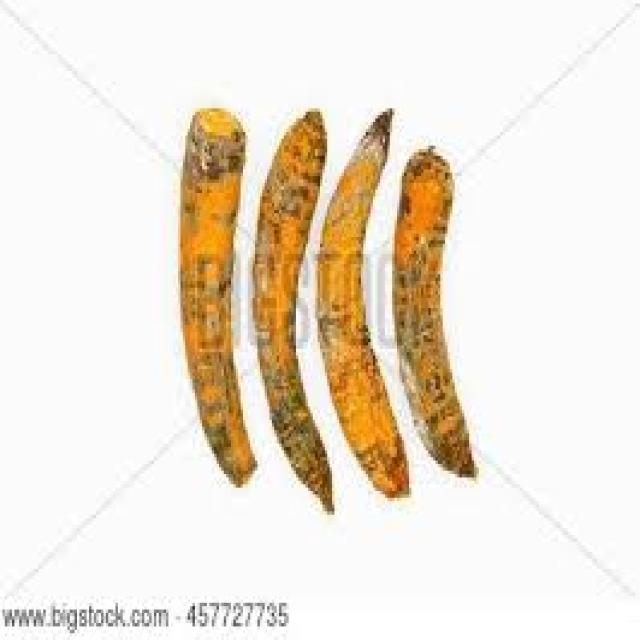Stale_Carrot: (170, 76, 471, 498)
